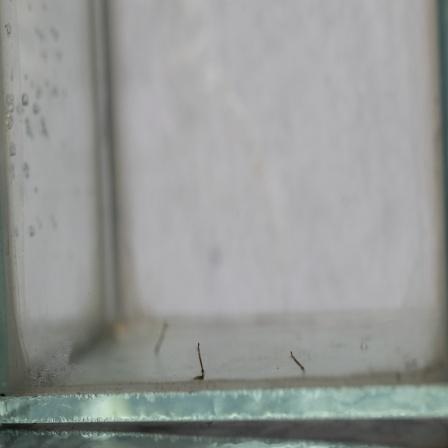Jentik-Nyamuk: (193, 339, 208, 386), (288, 347, 308, 374)
